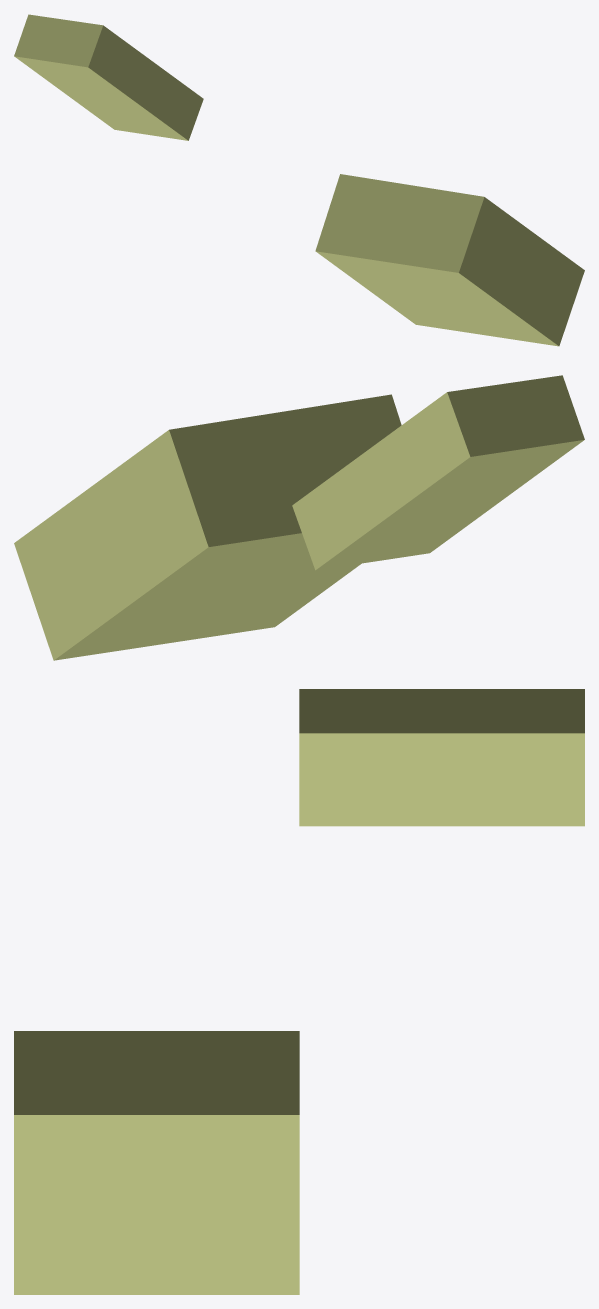
The picture shows the model from 3 angles, top to bottom: view 1: azimuth 30°, elevation 25°; view 2: azimuth 150°, elevation 25°; view 3: azimuth 270°, elevation 25°; orthographic projection. The views are drawn at different scales.
Parts seen in each view (by area): view 1: 0_0_1_3_1_2_0_1_2_1; view 2: 0_0_1_3_1_2_0_1_2_1; view 3: 0_0_1_3_1_2_0_1_2_1.
Boxes of the visible parts, left/top/right/bottom form: 0_0_1_3_1_2_0_1_2_1: left=14, top=14, right=584, bottom=346; 0_0_1_3_1_2_0_1_2_1: left=14, top=375, right=584, bottom=660; 0_0_1_3_1_2_0_1_2_1: left=14, top=689, right=584, bottom=1294.
Bounding box in the file's own units: 19.14 × 13.12 × 18.
